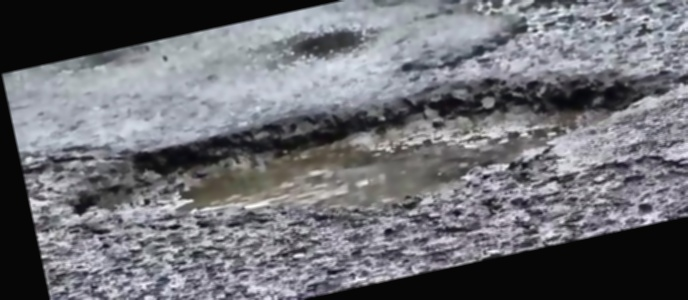pothole: (55, 31, 685, 278), (279, 17, 371, 68)
